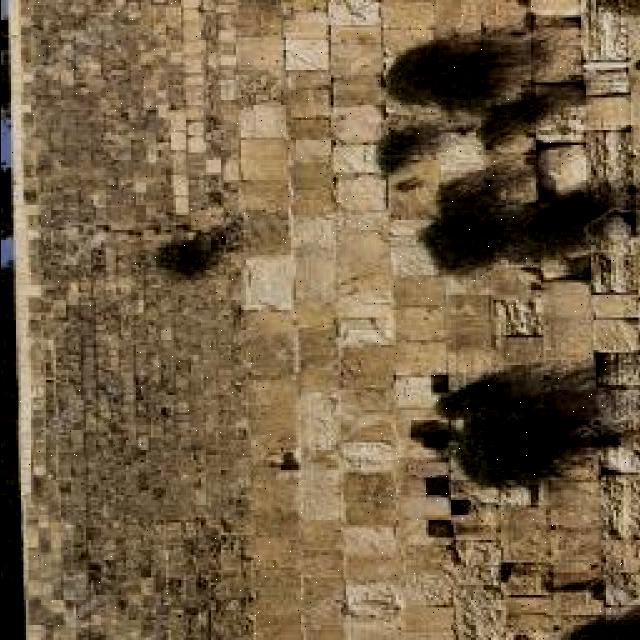crack: (12, 0, 638, 638), (270, 5, 310, 622), (6, 7, 44, 633), (37, 119, 147, 253), (196, 0, 229, 239), (385, 163, 446, 223), (529, 23, 588, 84), (434, 131, 495, 190), (589, 132, 637, 203), (164, 111, 198, 209), (538, 142, 593, 199), (327, 39, 382, 92), (234, 36, 288, 88), (391, 235, 448, 283), (329, 103, 387, 149), (588, 4, 631, 66), (392, 275, 454, 312), (534, 106, 590, 145), (382, 1, 439, 38), (584, 91, 635, 132), (244, 98, 292, 141), (282, 37, 330, 74), (582, 64, 632, 99), (327, 1, 382, 29)
dampness: (22, 22, 129, 633), (51, 278, 239, 508), (38, 501, 252, 638)
vegetation: (420, 368, 640, 526), (211, 2, 314, 322), (326, 0, 397, 346), (416, 166, 607, 275), (154, 216, 254, 282), (1, 12, 18, 296), (376, 121, 448, 177), (0, 263, 23, 416)
